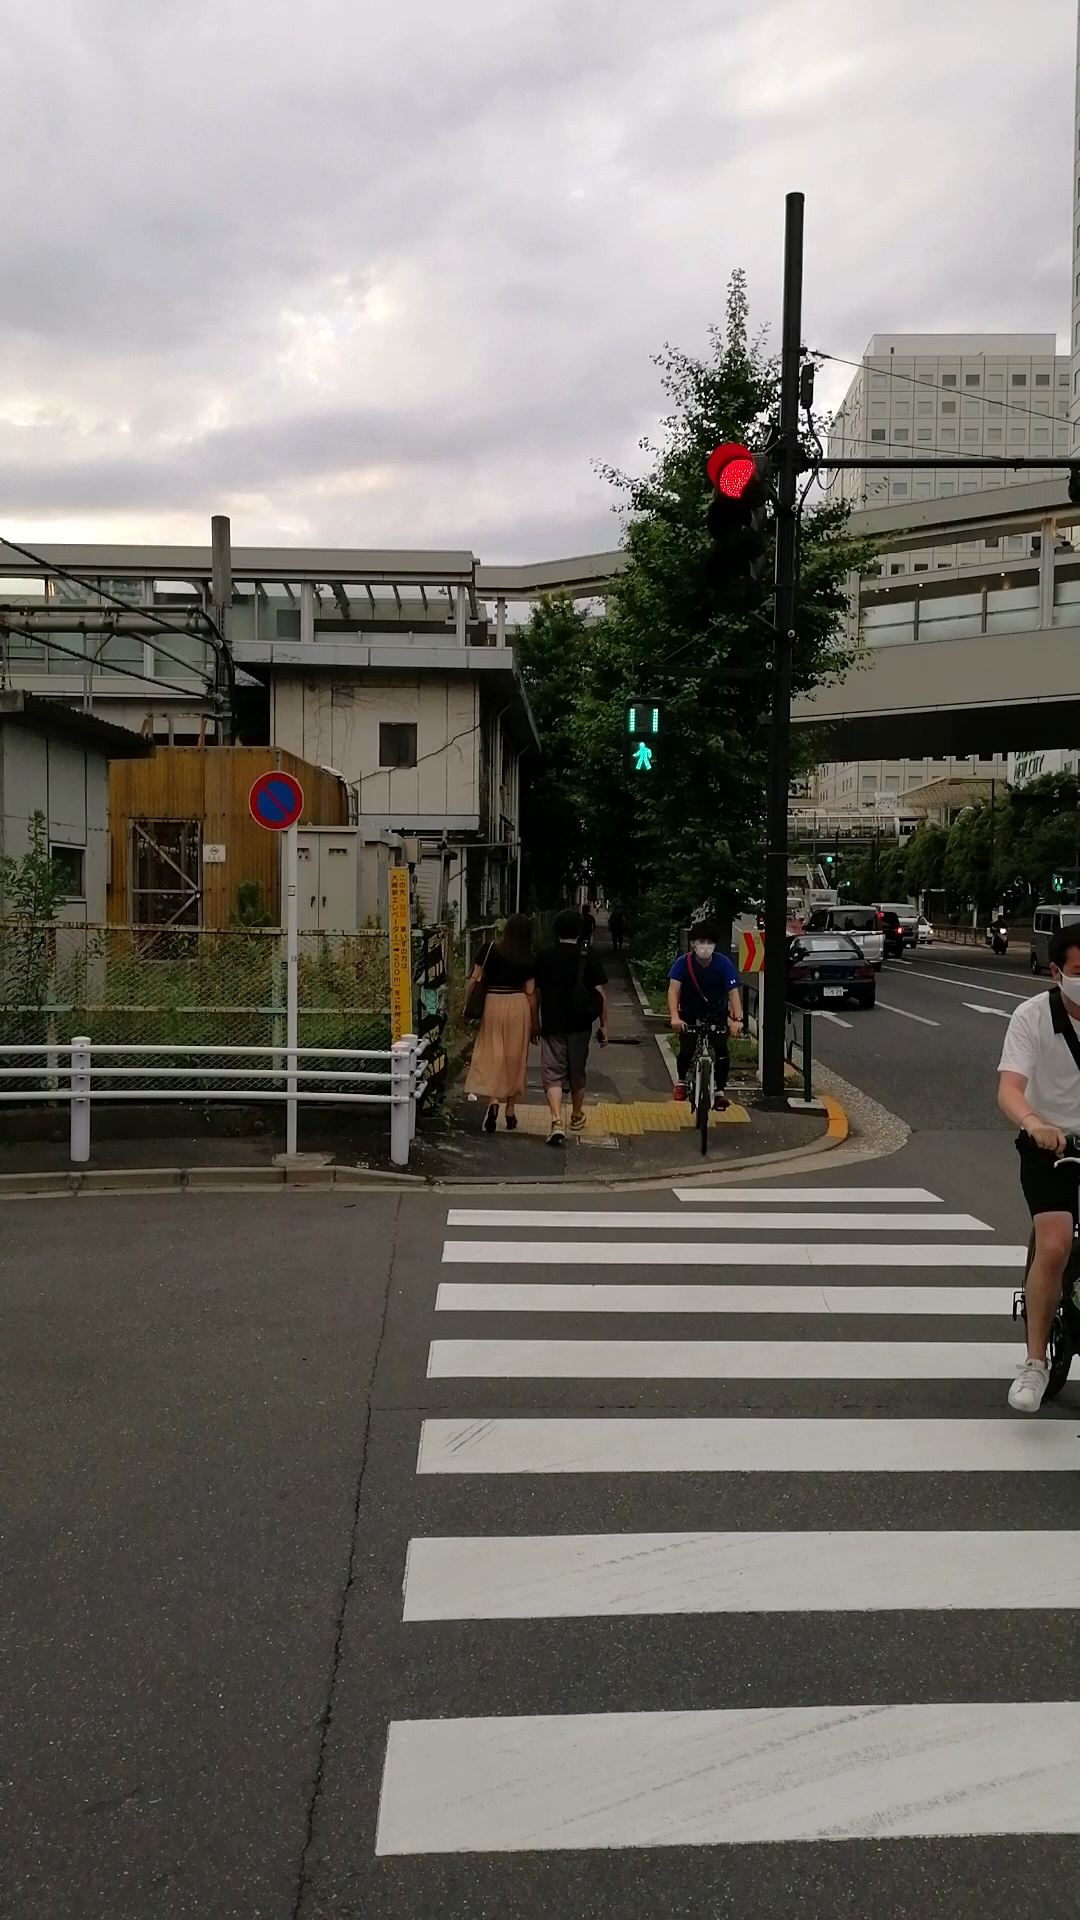green: (621, 696, 665, 779)
